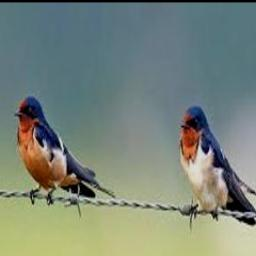Swallow: (12, 95, 115, 203), (178, 105, 256, 225)
